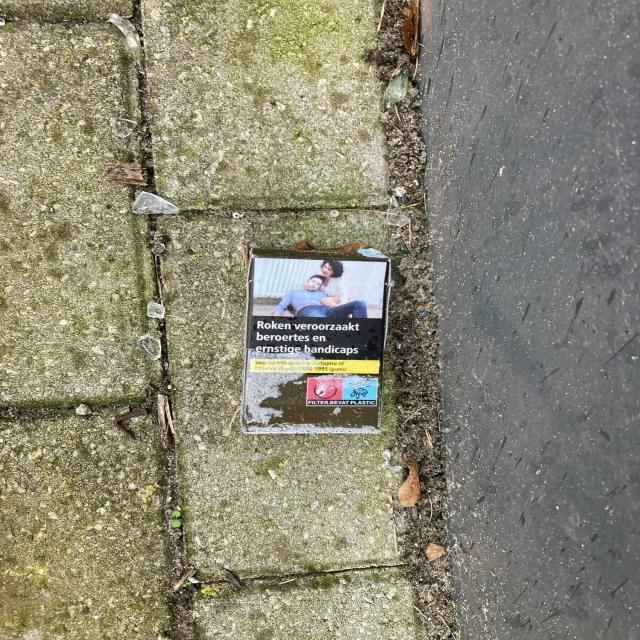Paper: (236, 240, 394, 438)
